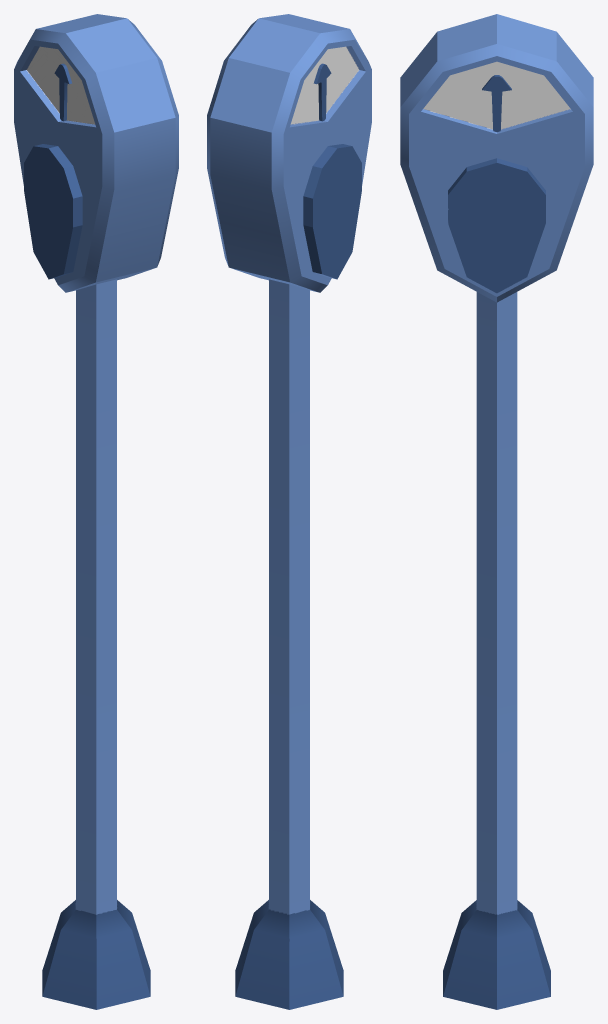
The model's file is parkingmeter.fbx.
3 views of the same model, side by side, from view 1: azimuth 30°, elevation 25°; view 2: azimuth 150°, elevation 25°; view 3: azimuth 270°, elevation 25° (orthographic).
Visible parts, largest first — view 1: pCylinder4; view 2: pCylinder4; view 3: pCylinder4.
Part boxes in pixels (x1,y1,x2,y2): pCylinder4: (14,14,178,1009); pCylinder4: (207,14,371,1009); pCylinder4: (400,14,593,1009).
Size of the model in its own units: 15.18 by 128 by 23.58.
